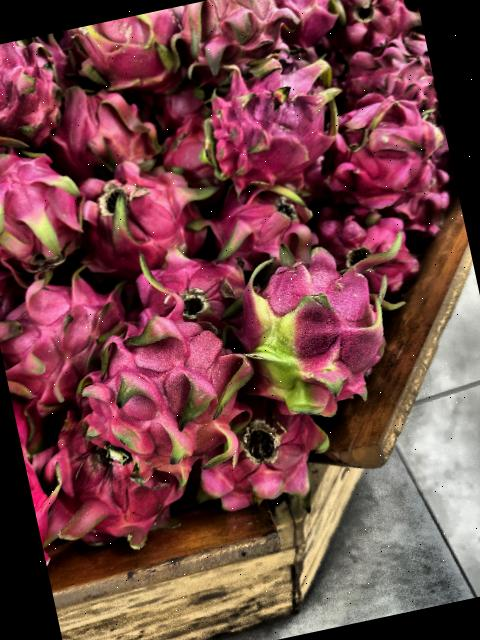buah-naga-belum-matang: (217, 250, 420, 428), (172, 0, 298, 75)
buah-naga-matang: (59, 304, 267, 496), (177, 45, 356, 191), (28, 402, 192, 561), (185, 398, 344, 520), (0, 270, 148, 401), (68, 152, 211, 276), (324, 97, 451, 217), (43, 72, 166, 182), (0, 138, 91, 285), (65, 6, 198, 102), (123, 240, 251, 332), (198, 168, 318, 262), (316, 200, 428, 300), (0, 34, 69, 156), (340, 38, 438, 118), (275, 0, 358, 57), (327, 0, 422, 44)
